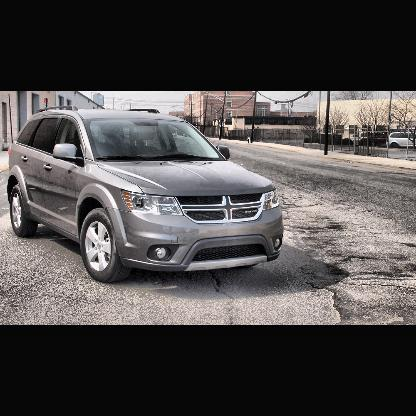Dodge Journey SUV 2012: (7, 105, 285, 285)
